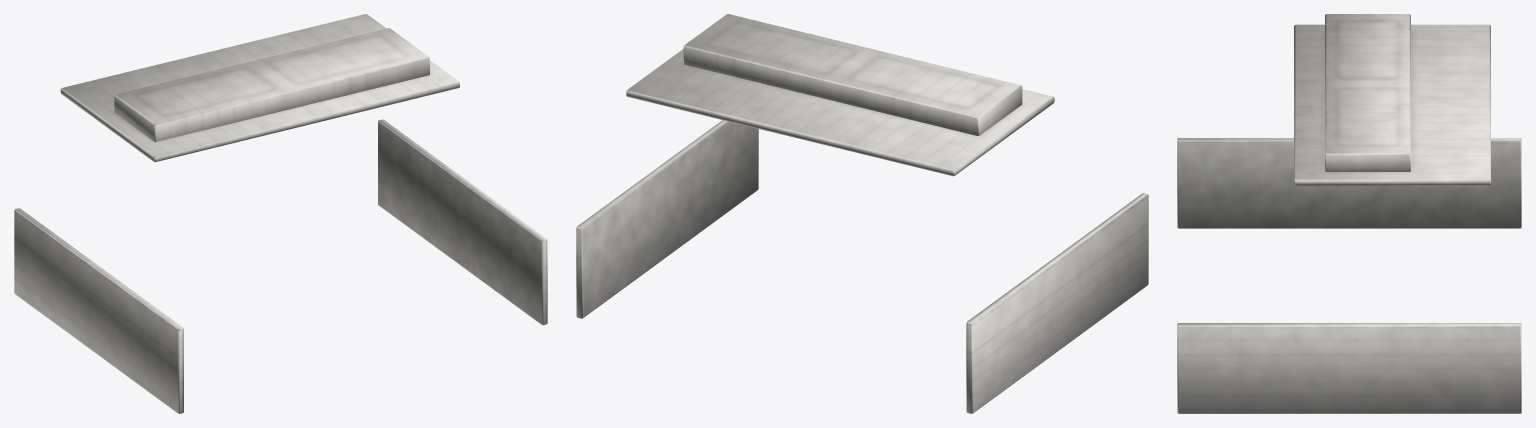
The model's file is Patrulla_Blanco.fbx.
3 views of the same model, side by side, from view 1: azimuth 30°, elevation 25°; view 2: azimuth 150°, elevation 25°; view 3: azimuth 270°, elevation 25° (orthographic). The views are drawn at different scales.
Visible parts, largest first — view 1: Patrulla_Blanco; view 2: Patrulla_Blanco; view 3: Patrulla_Blanco.
Boxes of the visible parts, box(x1,y1,x2,y2) form: Patrulla_Blanco: box(14, 14, 547, 413); Patrulla_Blanco: box(576, 14, 1148, 413); Patrulla_Blanco: box(1177, 14, 1521, 413).
Size of the model in its own units: 7.24 by 4.25 by 5.6.
